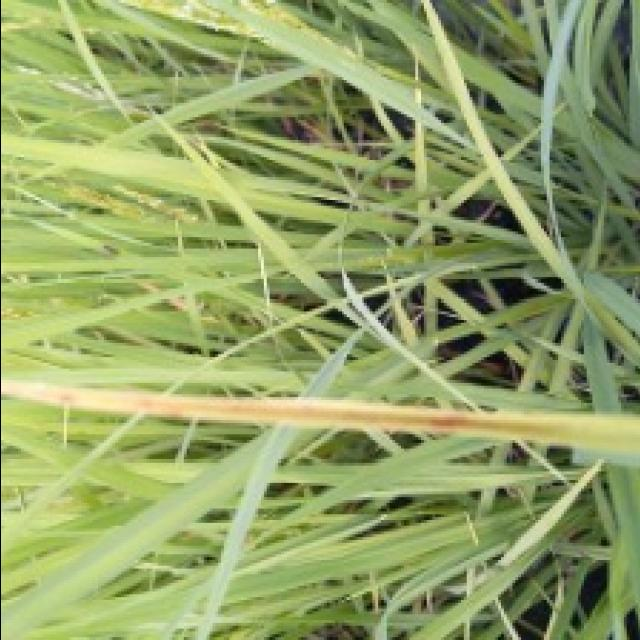Unhealthy: (429, 412, 467, 432)
